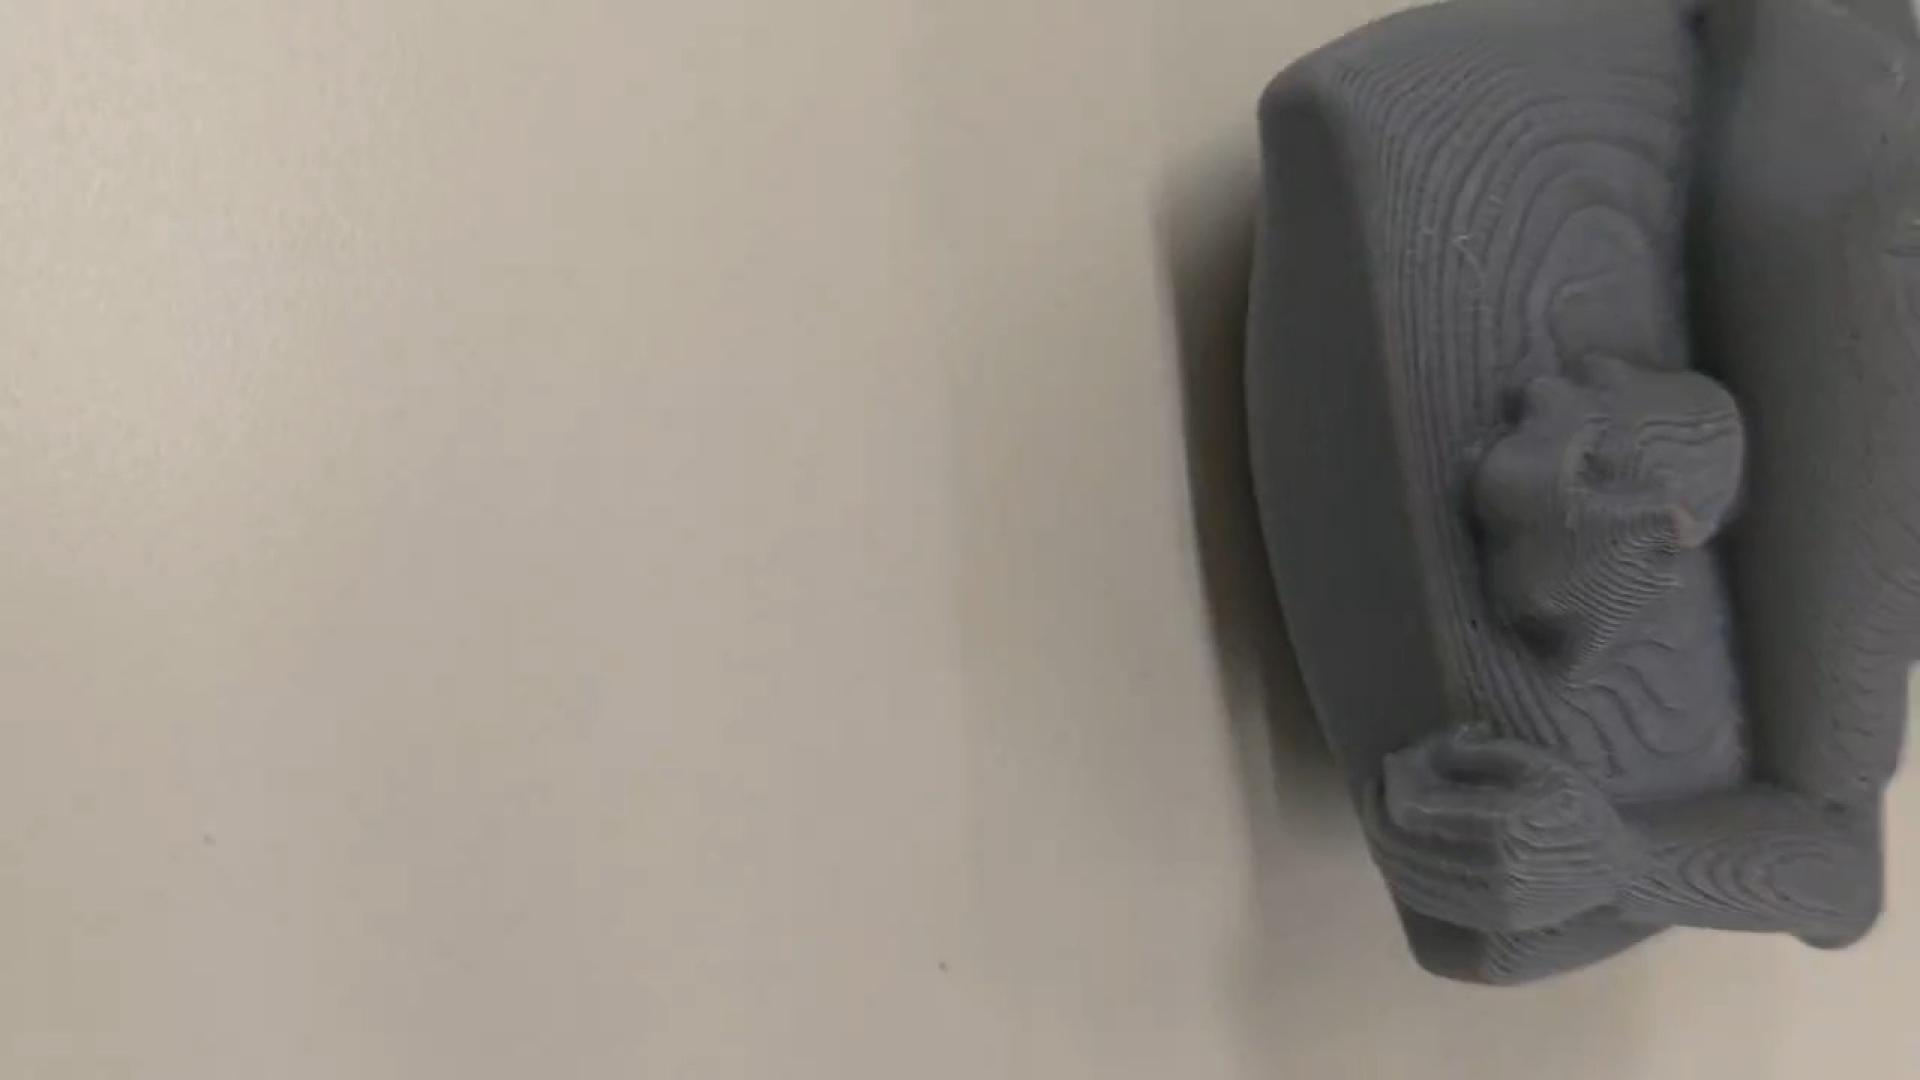Bad-style: (1236, 0, 1920, 1005)
